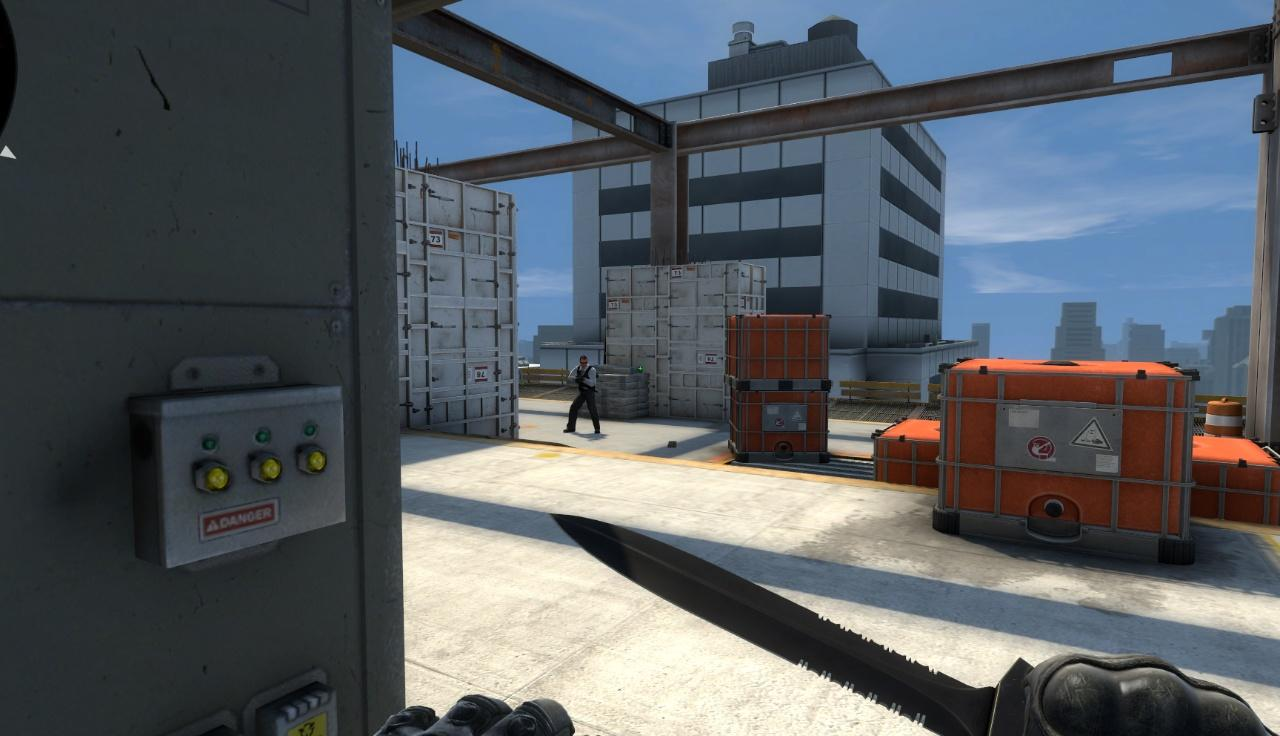tt: (568, 354, 600, 433)
tthead: (578, 354, 589, 367)
